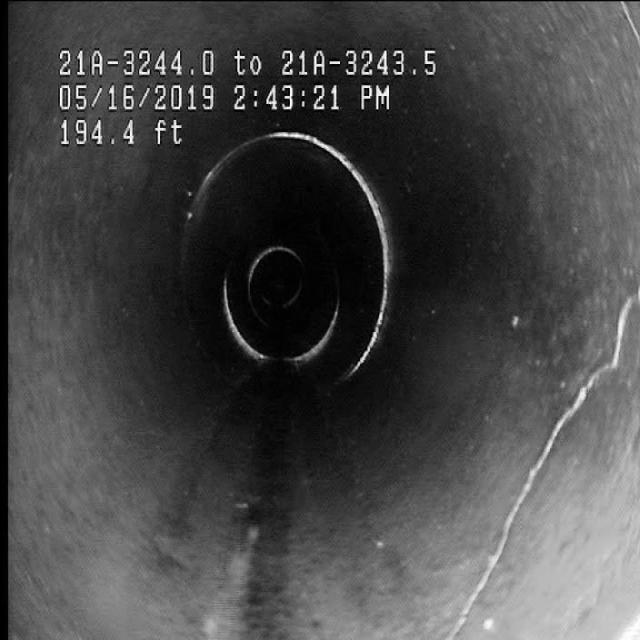Crack: (466, 309, 614, 585)
